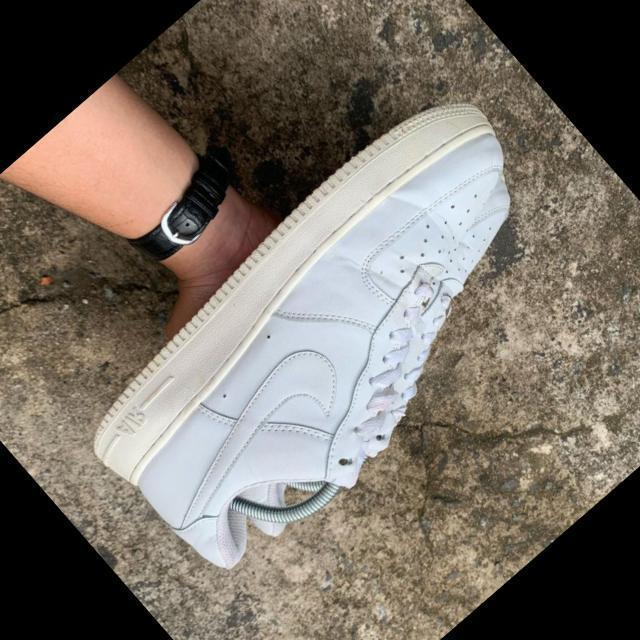nike fake air force: (59, 73, 616, 603)
